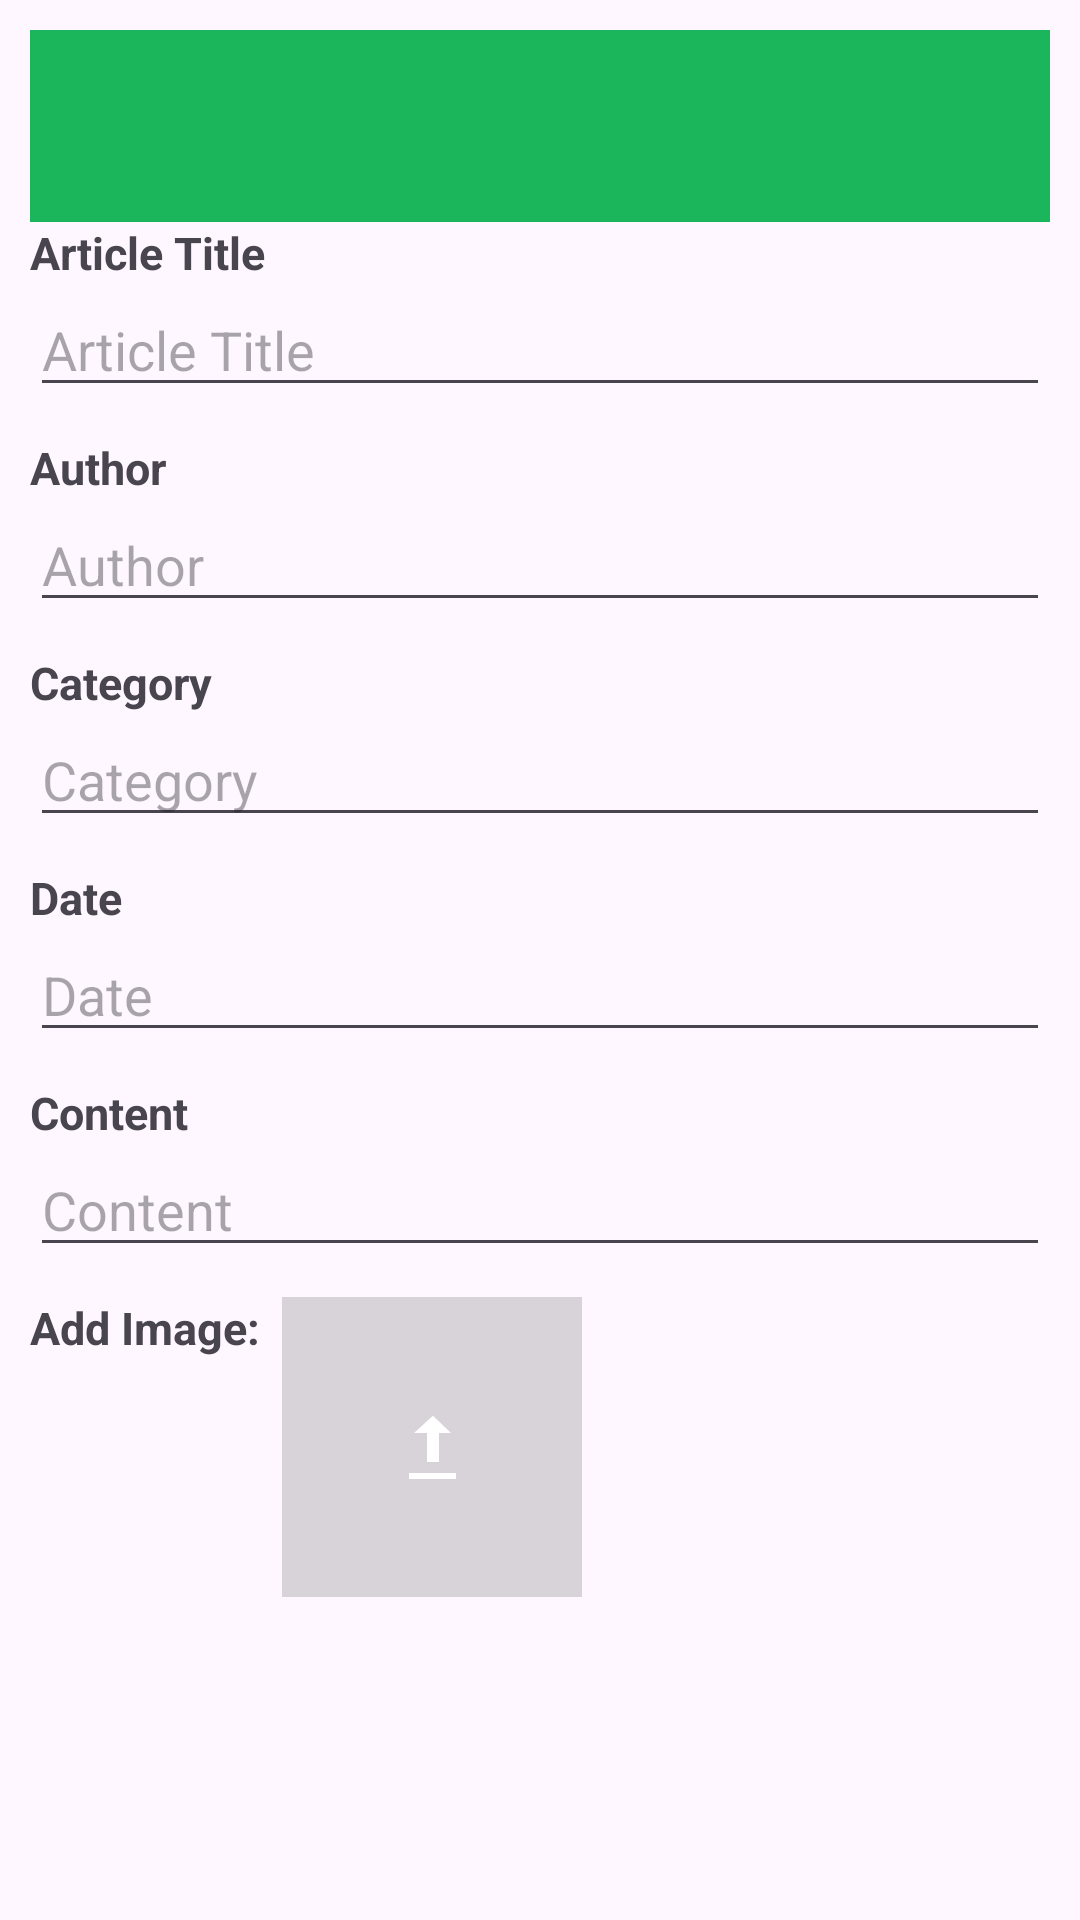

Where icons sit on this 1080×1920 app screen, as (x1, y1, x2, y2):
upload: (282, 1297, 582, 1597)
